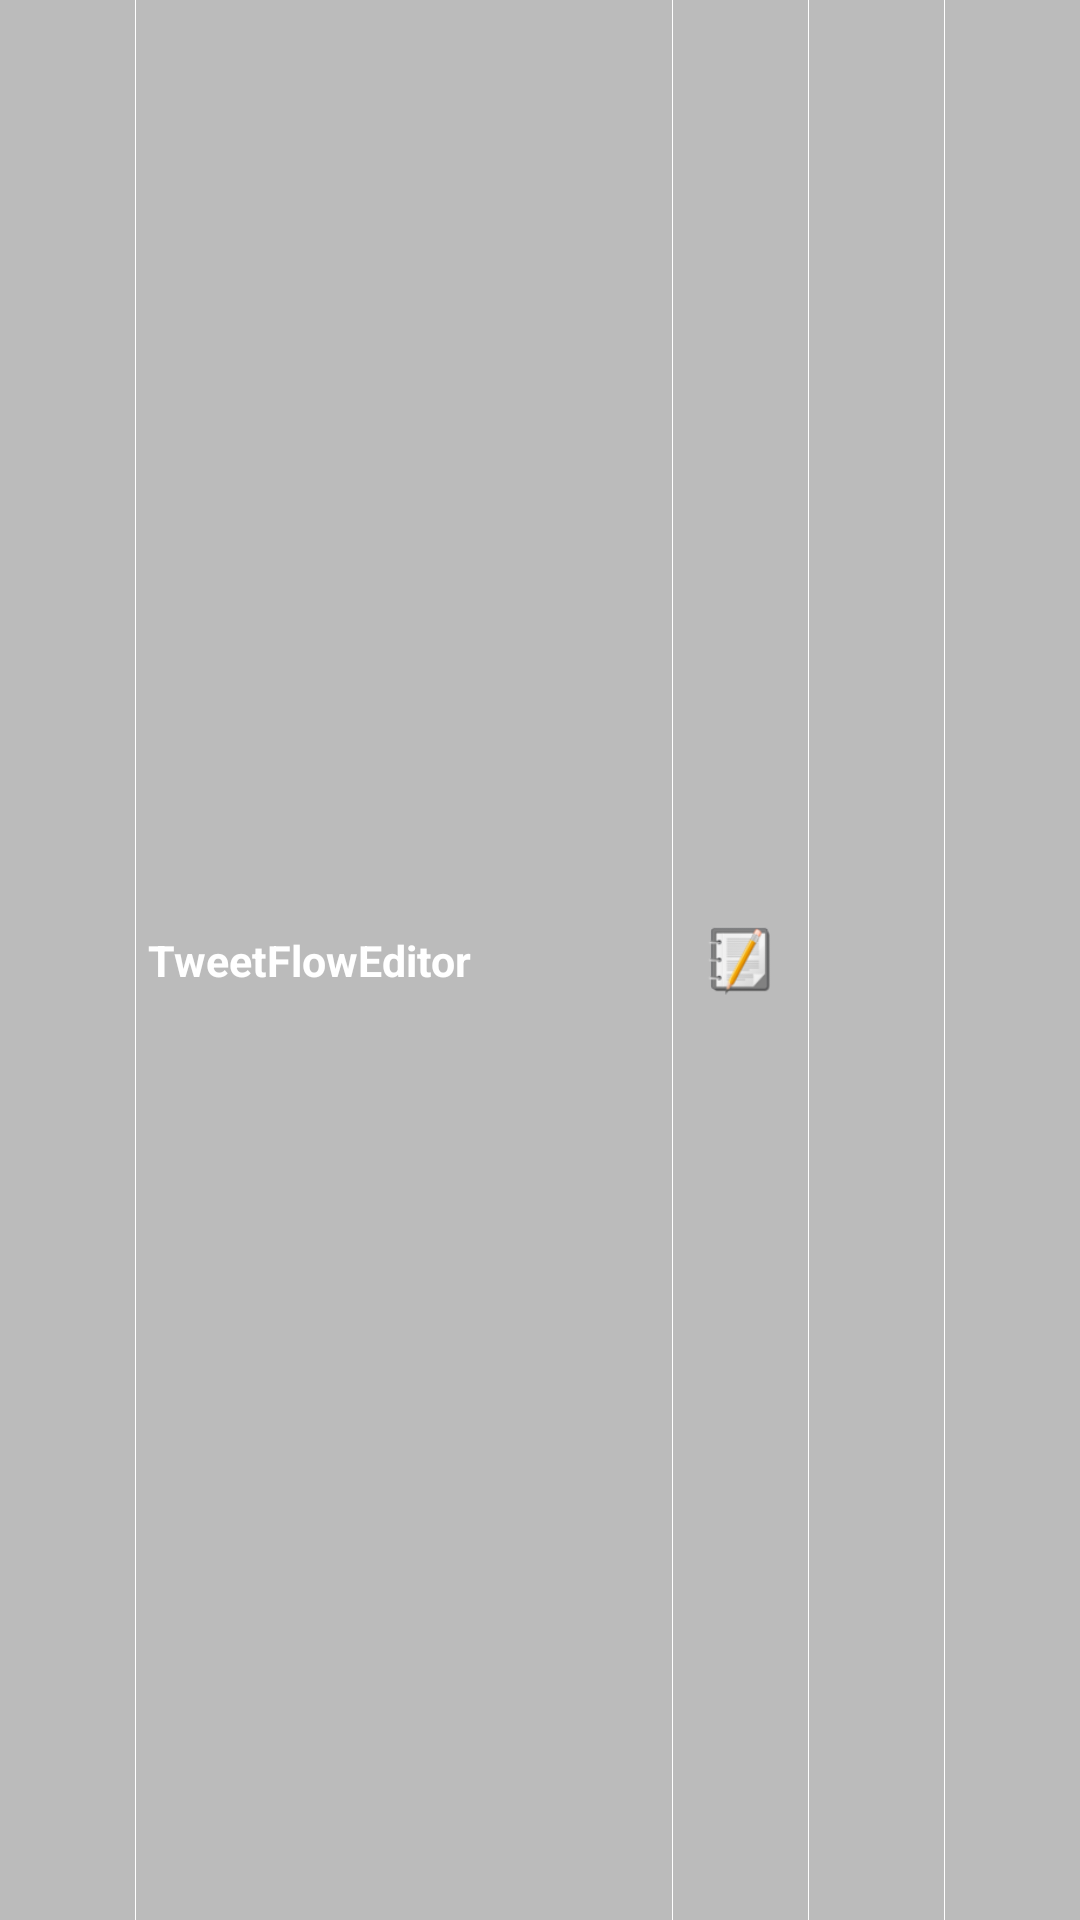

Screen size 1080×1920. Icon name, then its box in pixels as (x1, y1, x2, y2):
ibtn editor: (711, 928, 770, 994)
